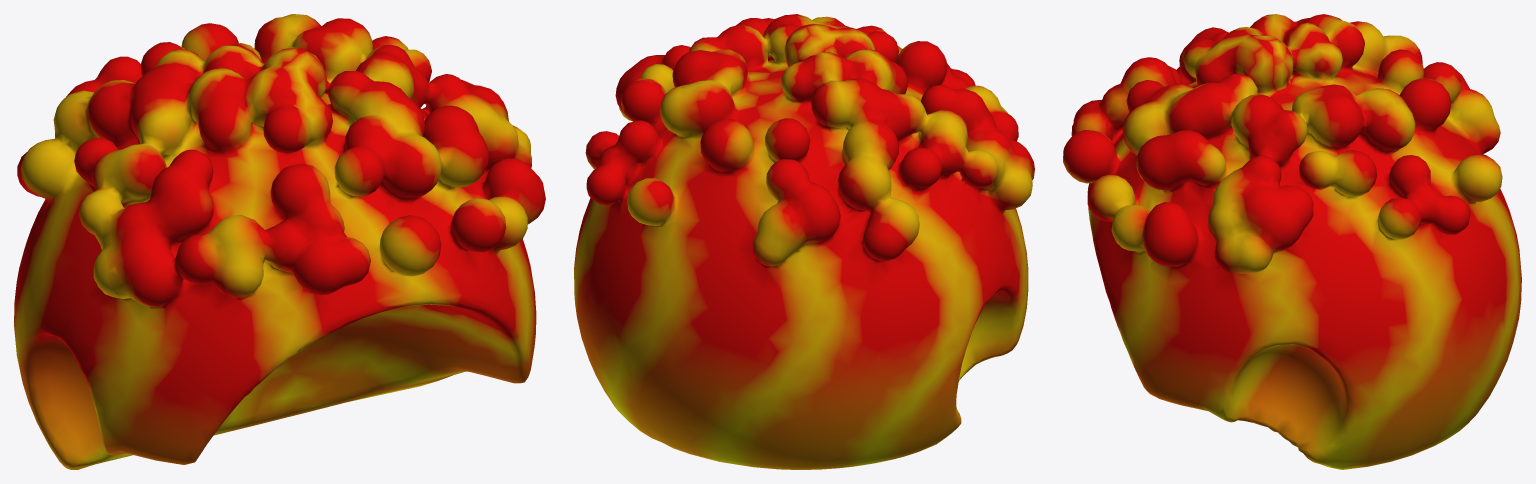
The model's file is fade-curls.glb.
3 views of the same model, side by side, from view 1: azimuth 30°, elevation 25°; view 2: azimuth 150°, elevation 25°; view 3: azimuth 270°, elevation 25° (orthographic). The views are drawn at different scales.
Parts seen in each view (by area): view 1: part; view 2: part; view 3: part.
Boxes of the visible parts, x1=… form: part: x1=14, y1=14, x2=545, y2=469; part: x1=574, y1=14, x2=1034, y2=469; part: x1=1063, y1=14, x2=1521, y2=469.
Size of the model in its own units: 2.05 by 1.78 by 2.06.
